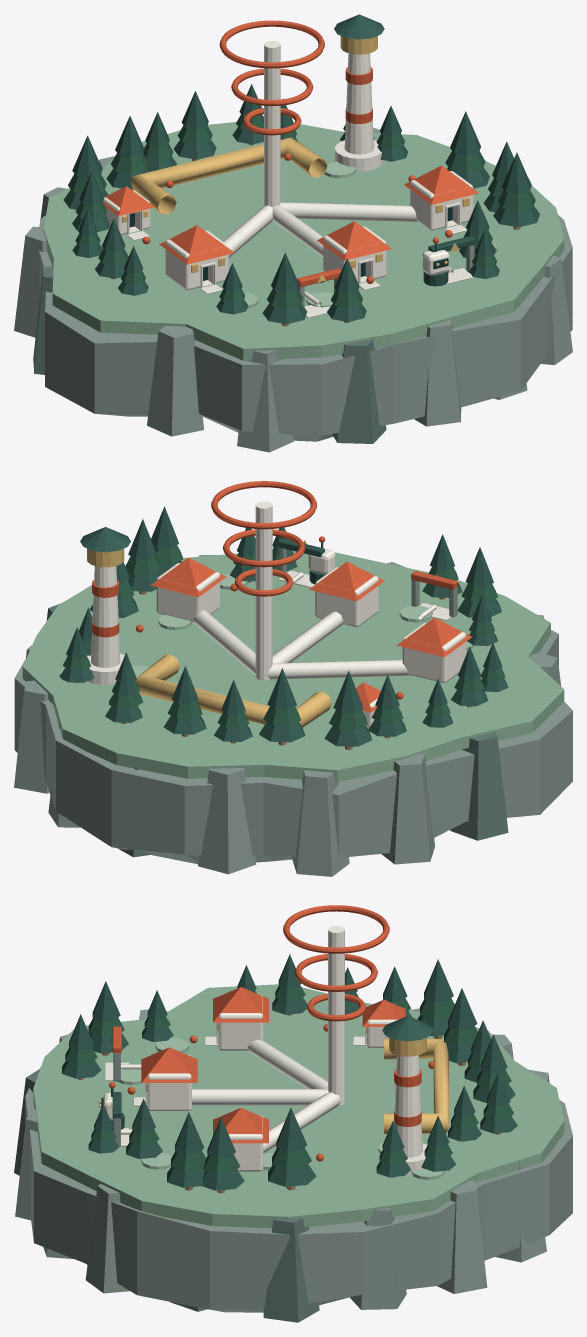
File: chapter-10.glb
The picture shows the model from 3 angles, top to bottom: view 1: azimuth 30°, elevation 25°; view 2: azimuth 150°, elevation 25°; view 3: azimuth 270°, elevation 25°; orthographic projection.
Parts seen in each view (by area): view 1: terrain, rock_base, cliff_facet_10, landmark_queue, cliff_facet_12, cliff_facet_13, landmark_channels, cliff_facet_11, cliff_facet_07, beacon, route.002, cliff_facet_15 (+29 smaller); view 2: terrain, rock_base, cliff_facet_05, cliff_facet_06, cliff_facet_07, cliff_facet_08, landmark_queue, landmark_channels, cliff_facet_02, route, beacon, landmark_channels.001 (+31 smaller); view 3: terrain, rock_base, cliff_facet_02, cliff_facet_00, landmark_channels, cliff_facet_15, route.001, landmark_queue, beacon, cliff_facet_01, signal_ring.002, landmark_channels.002 (+32 smaller).
Boxes of the visible parts, x1,y1,x2,y2 form: terrain: (43,122,564,360); rock_base: (39,215,572,441); cliff_facet_10: (147,325,203,436); landmark_queue: (131,137,327,214); cliff_facet_12: (332,339,386,443); cliff_facet_13: (414,319,461,426); landmark_channels: (264,41,280,207); cliff_facet_11: (237,350,293,452); cliff_facet_07: (14,226,47,337); beacon: (344,53,373,154); route.002: (279,202,418,221); cliff_facet_15: (541,255,572,365); terrain: (22,550,564,782); rock_base: (14,630,572,864); cliff_facet_05: (198,768,256,874); cliff_facet_06: (292,770,349,876); cliff_facet_07: (381,753,434,864); cliff_facet_08: (450,732,508,840); landmark_queue: (136,654,331,727); landmark_channels: (255,501,272,680); cliff_facet_02: (14,680,49,793); route: (264,660,411,679); beacon: (91,566,120,667); landmark_channels.001: (402,623,466,682); terrain: (33,984,564,1228); rock_base: (25,1067,572,1312); cliff_facet_02: (437,1180,487,1293); cliff_facet_00: (263,1218,319,1322); landmark_channels: (328,926,344,1105); cliff_facet_15: (85,1184,129,1293); route.001: (192,1089,328,1105); landmark_queue: (384,1038,448,1133); beacon: (394,1055,422,1157); cliff_facet_01: (349,1208,406,1309); signal_ring.002: (283,905,389,953); landmark_channels.002: (147,1055,191,1110).
Bounding box in the file's own units: 12.16 × 6.79 × 11.72.
